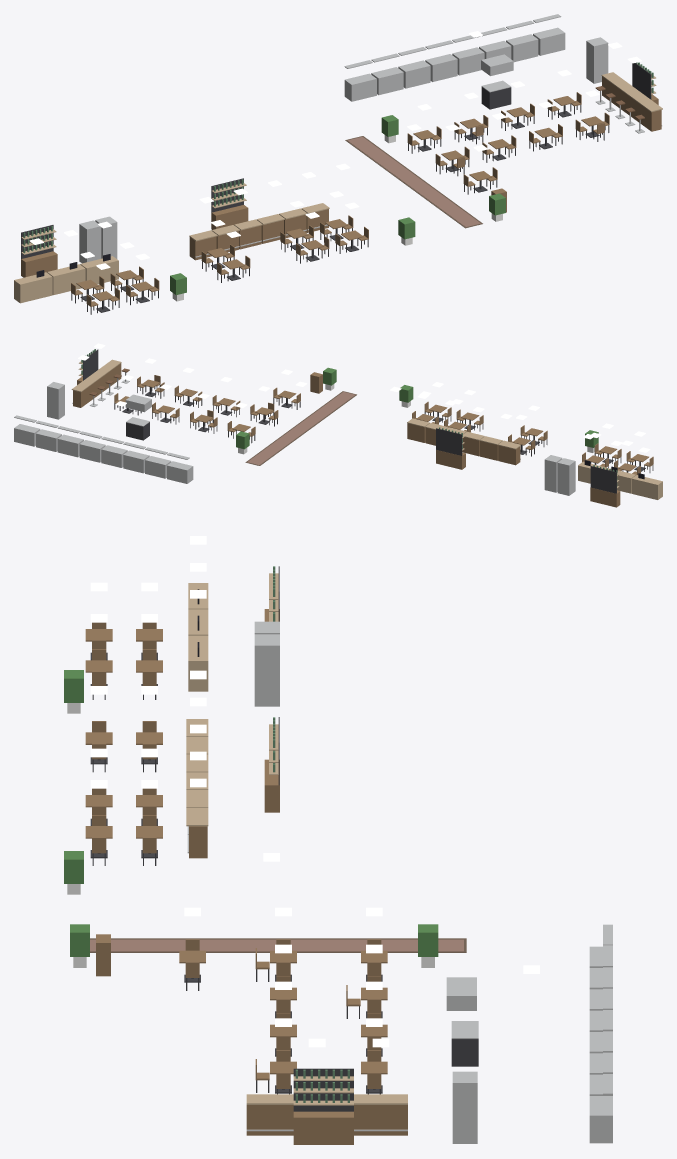
Rendered from fine-s0.glb.
The picture shows the model from 3 angles, top to bottom: view 1: azimuth 30°, elevation 25°; view 2: azimuth 150°, elevation 25°; view 3: azimuth 270°, elevation 25°; orthographic projection. The views are drawn at different scales.
Parts seen in each view (by area): view 1: soft-s0, back-bar#g4.000, back-bar#g3.000, range.000, shop-counter#g4.000, fridge.000, kitchen-counter.000, fridge#g4.000, shop-counter#g4.001, kitchen-counter.003, kitchen-counter.002, kitchen-counter.006 (+14 smaller); view 2: soft-s0, back-bar#g4.000, back-bar#g3.000, range.000, fridge#g4.000, shop-counter#g4.000, fridge.000, kitchen-counter.000, kitchen-counter.004, kitchen-counter.005, kitchen-counter.003, kitchen-counter.002 (+16 smaller); view 3: back-bar.000, soft-s0, range.000, fridge#g4.001, fridge.000, bar-counter.000, bar-counter.003, kitchen-counter.007, back-bar#g3.000, bar-counter#g3.005, shop-counter#g4.002.
Boxes of the visible parts, box(x1,y1,x2,y2) form: soft-s0: box(345, 136, 482, 228); back-bar#g4.000: box(21, 225, 57, 277); back-bar#g3.000: box(211, 178, 248, 229); range.000: box(481, 54, 513, 109); shop-counter#g4.000: box(14, 270, 52, 303); fridge.000: box(586, 37, 608, 83); kitchen-counter.000: box(344, 60, 376, 101); fridge#g4.000: box(79, 220, 101, 263); shop-counter#g4.001: box(47, 262, 85, 295); kitchen-counter.003: box(425, 40, 457, 81); kitchen-counter.002: box(398, 47, 430, 88); kitchen-counter.006: box(506, 20, 538, 62); soft-s0: box(245, 391, 356, 465); back-bar#g4.000: box(590, 465, 620, 507); back-bar#g3.000: box(436, 427, 465, 469); range.000: box(125, 394, 151, 440); fridge#g4.000: box(557, 458, 575, 495); shop-counter#g4.000: box(631, 473, 662, 499); fridge.000: box(47, 382, 64, 419); kitchen-counter.000: box(167, 452, 193, 483); kitchen-counter.004: box(79, 431, 105, 462); kitchen-counter.005: box(57, 426, 83, 457); kitchen-counter.003: box(101, 436, 127, 467); kitchen-counter.002: box(123, 442, 149, 473); back-bar.000: box(293, 1068, 353, 1144); soft-s0: box(90, 938, 466, 952); range.000: box(446, 977, 478, 1066); fridge#g4.001: box(254, 634, 279, 706); fridge.000: box(452, 1071, 477, 1143); bar-counter.000: box(367, 1094, 407, 1135); bar-counter.003: box(246, 1094, 286, 1135); kitchen-counter.007: box(589, 1074, 612, 1143); back-bar#g3.000: box(264, 717, 279, 812); bar-counter#g3.005: box(186, 807, 208, 858); shop-counter#g4.002: box(188, 635, 208, 691).
Bounding box in the file's own units: 37.39 × 2.94 × 16.33.
